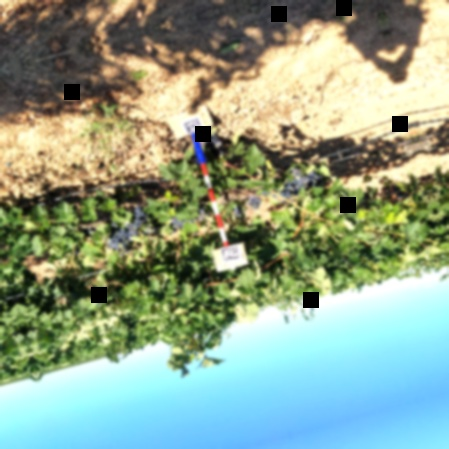QR: (183, 117, 203, 134), (221, 246, 239, 262)
